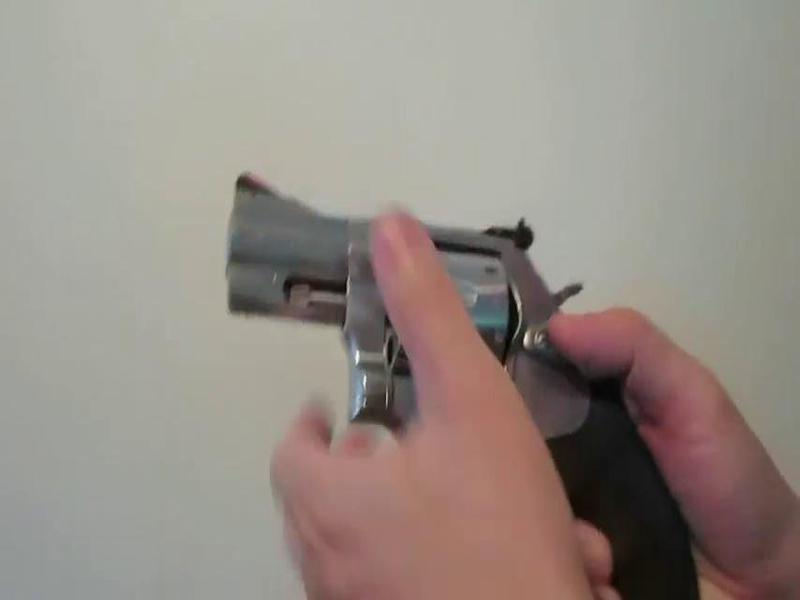Revolver: (213, 153, 712, 600)
